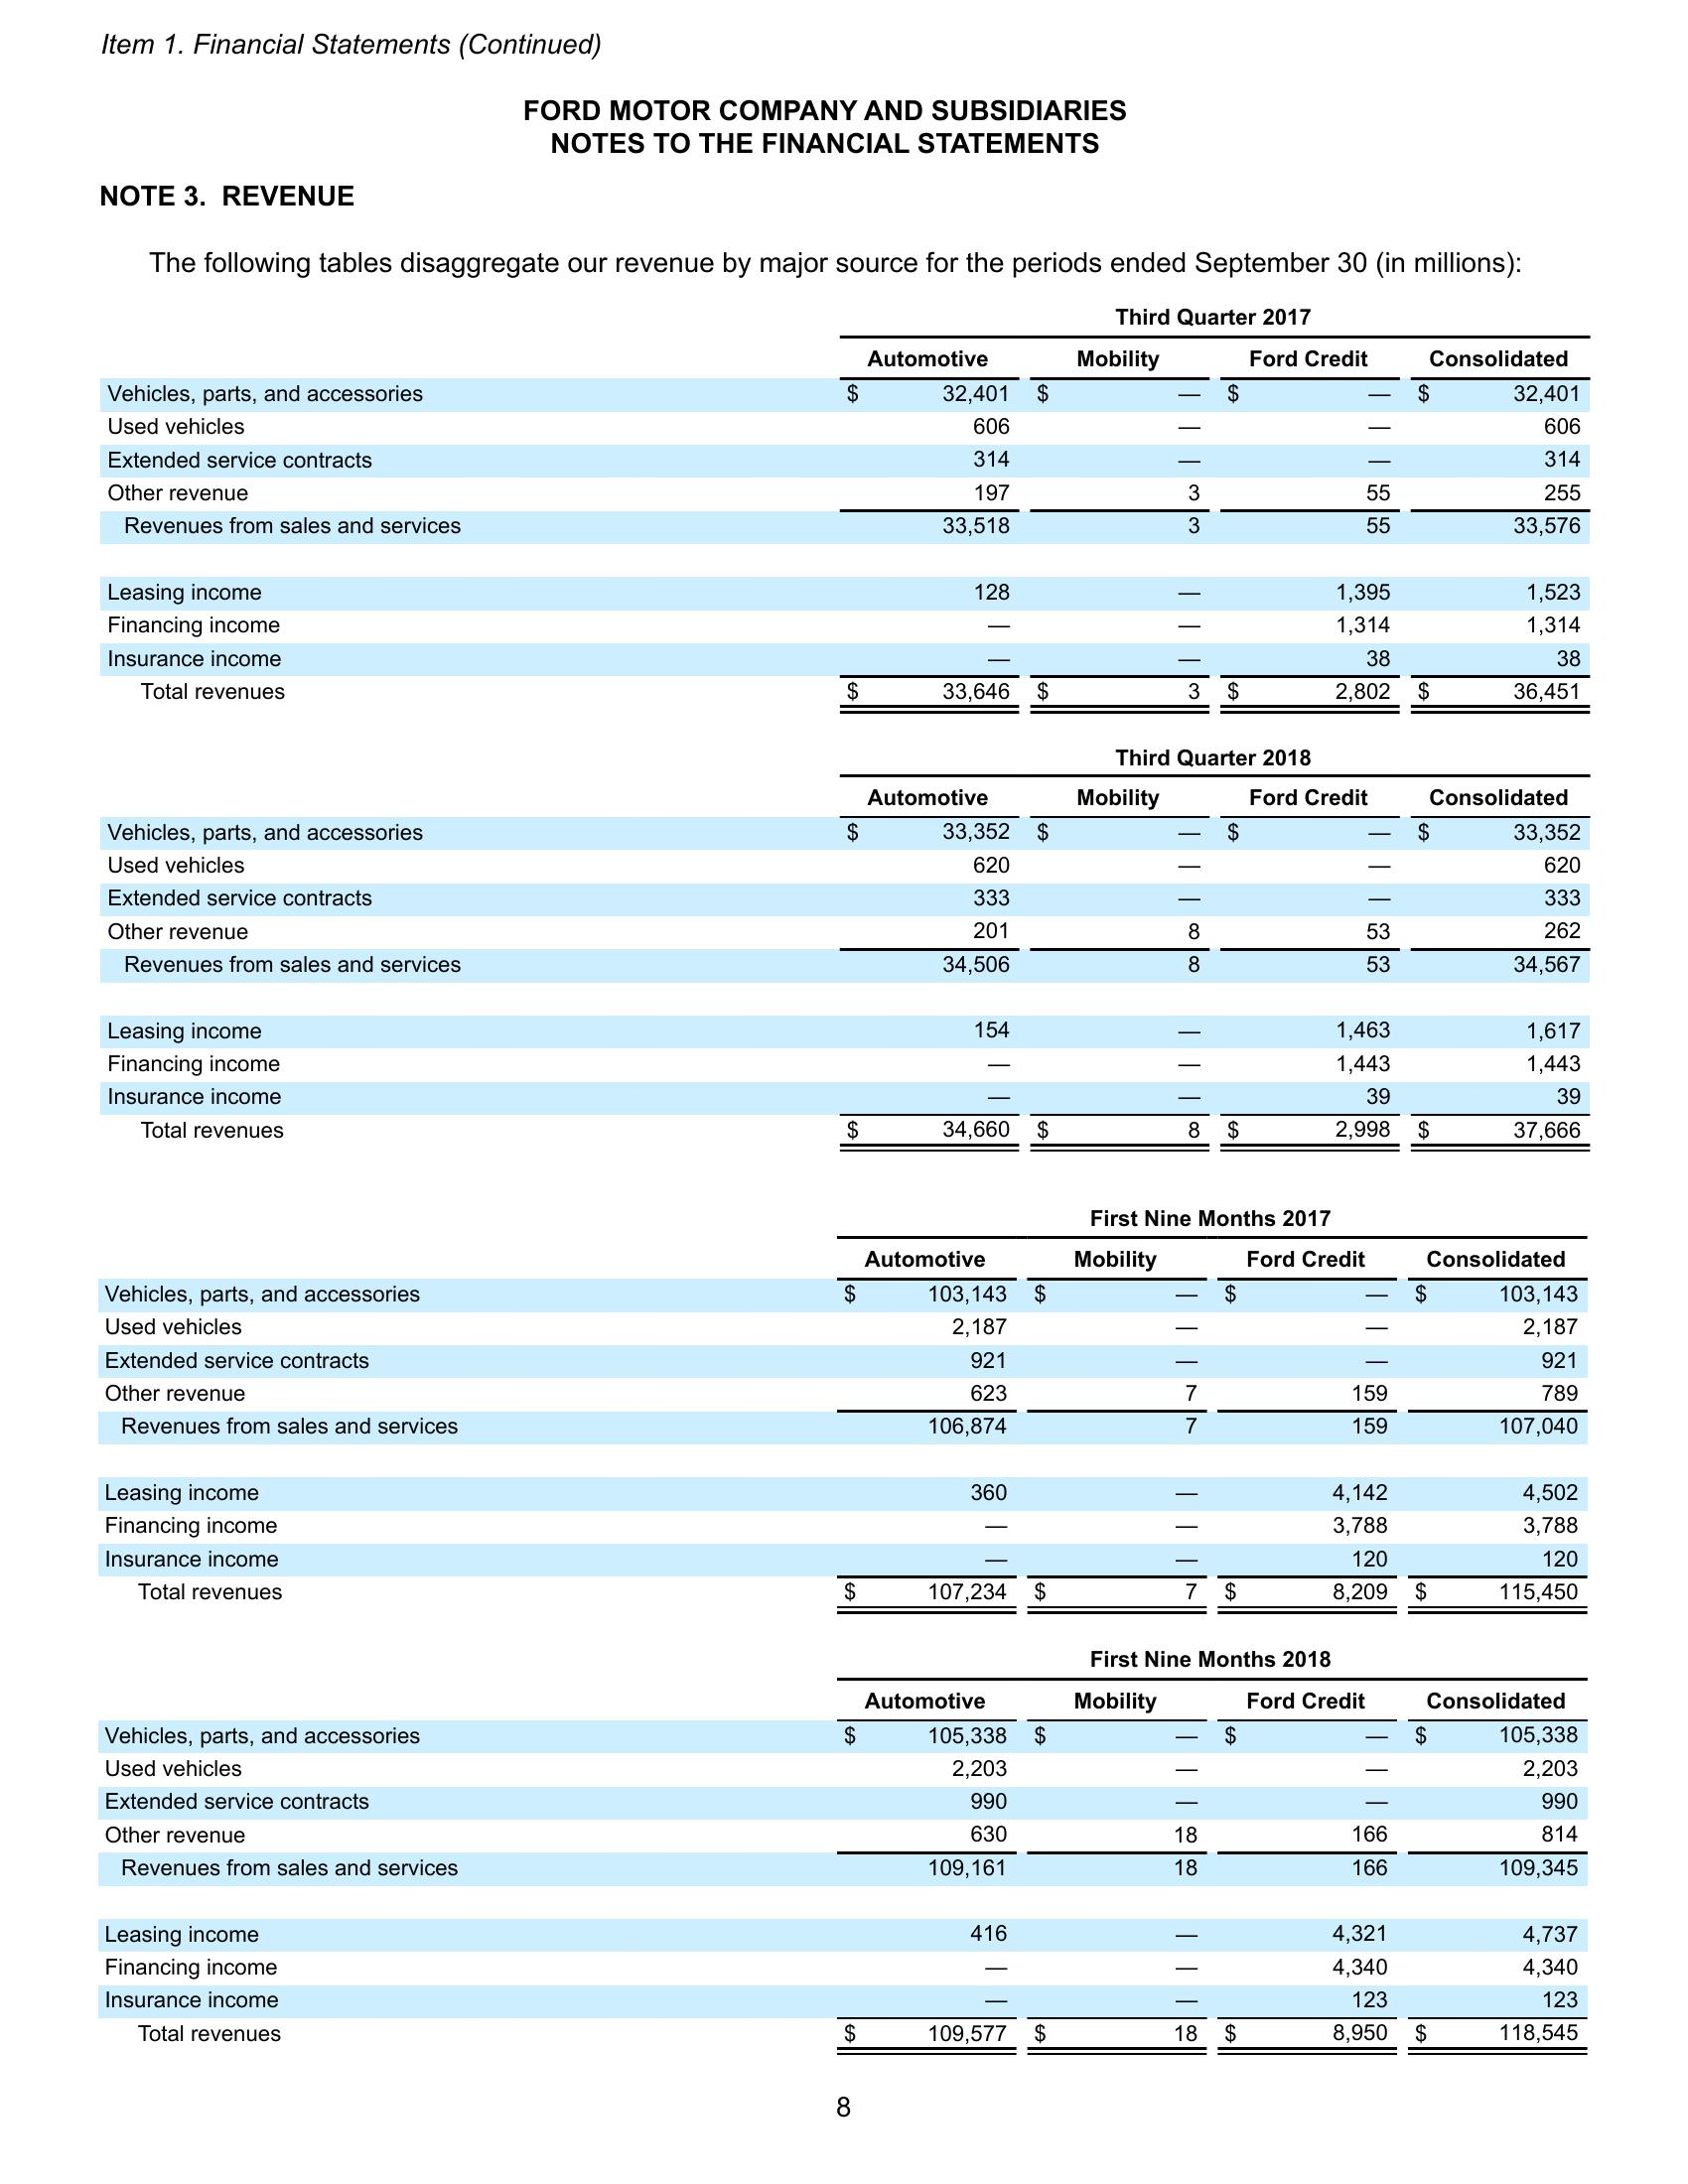table: (87, 292, 1599, 721), (85, 1195, 1590, 1620), (89, 1643, 1594, 2065), (85, 743, 1594, 1159)
